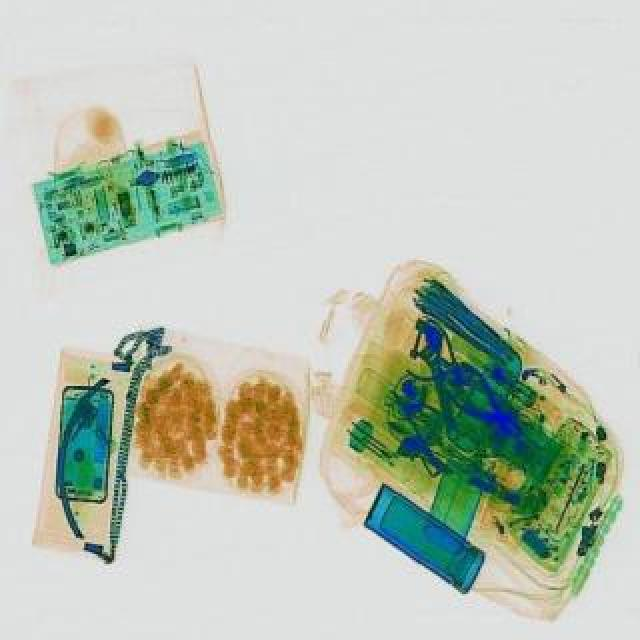scissors: (408, 314, 468, 442)
wrench: (434, 358, 542, 450), (388, 314, 492, 402)
